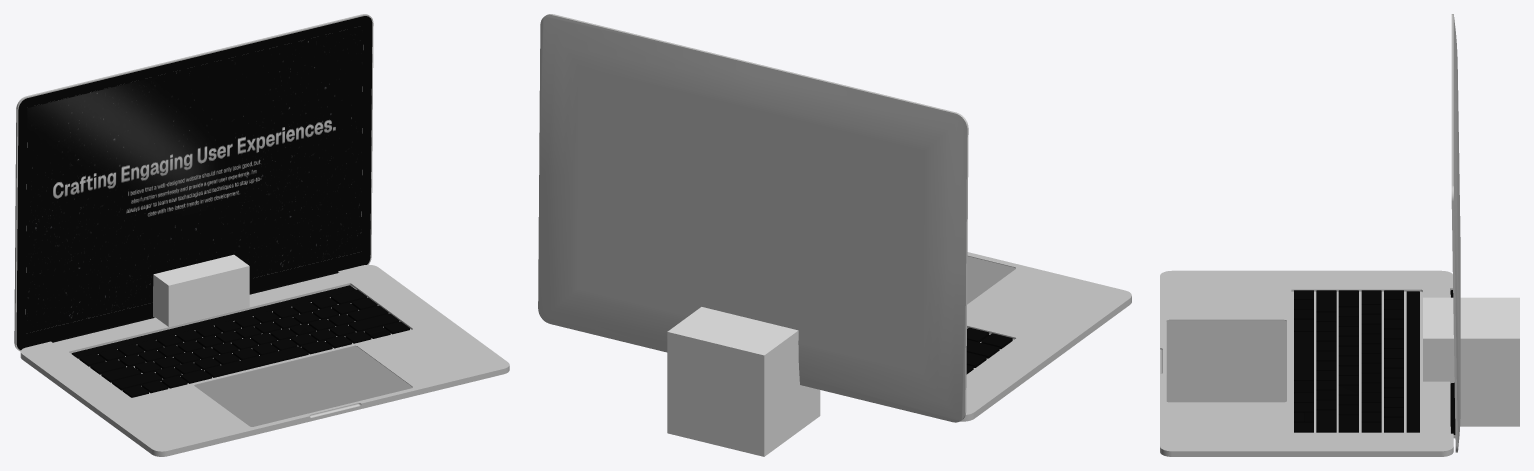
File: mac-draco2.glb
3 renders of one model, left to right at view 1: azimuth 30°, elevation 25°; view 2: azimuth 150°, elevation 25°; view 3: azimuth 270°, elevation 25°, orthographic. The views are drawn at different scales.
Parts seen in each view (by area): view 1: screen, base, keyboard, Cube.001, touchbar; view 2: screen, Cube.001, base, keyboard; view 3: base, keyboard, Cube.001, screen, touchbar.
Boxes of the visible parts, x1,y1,x2,y2 form: screen: [14, 14, 373, 351]; base: [20, 264, 509, 456]; keyboard: [79, 289, 409, 397]; Cube.001: [153, 254, 249, 326]; touchbar: [71, 285, 355, 358]; screen: [538, 14, 968, 422]; Cube.001: [667, 307, 820, 456]; base: [960, 252, 1131, 421]; keyboard: [966, 327, 1012, 374]; base: [1160, 270, 1453, 456]; keyboard: [1294, 290, 1403, 432]; Cube.001: [1423, 297, 1519, 426]; screen: [1450, 14, 1460, 452]; touchbar: [1406, 291, 1419, 432].
Size of the model in its own units: 8.81 by 6.95 by 7.42.
8 materials, 1 textured.
